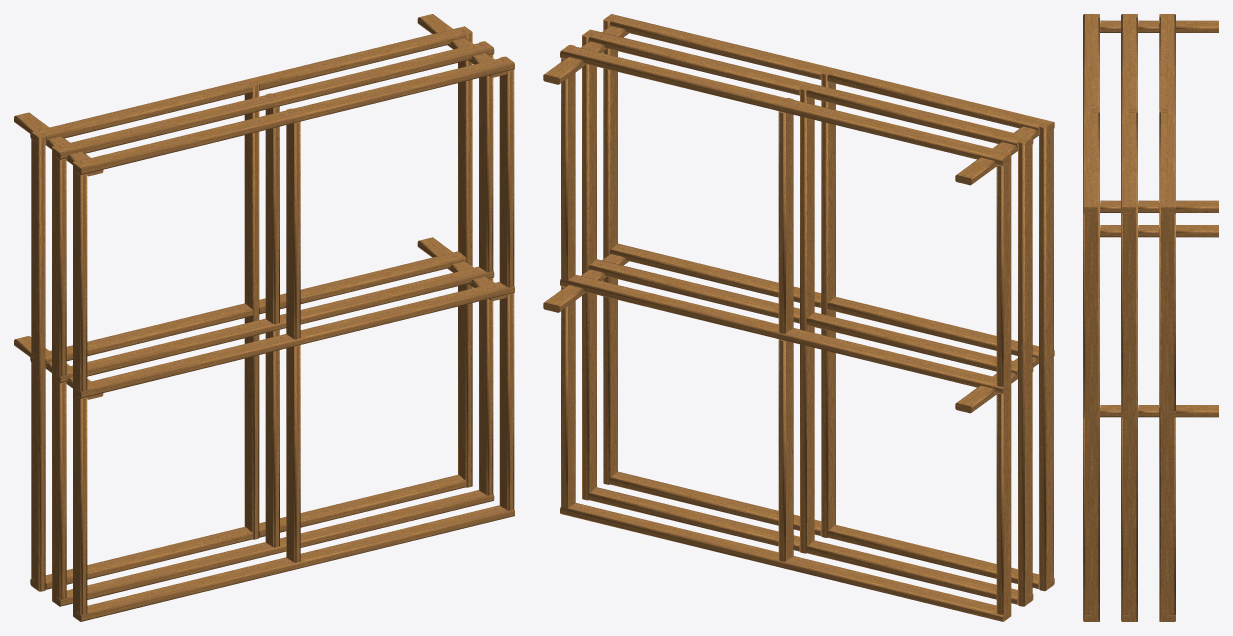
File: VCKA0050.glb
3 renders of one model, left to right at view 1: azimuth 30°, elevation 25°; view 2: azimuth 150°, elevation 25°; view 3: azimuth 270°, elevation 25°, orthographic. The views are drawn at different scales.
Parts seen in each view (by area): view 1: V Bar BIN 32 32.017; view 2: V Bar BIN 32 32.017; view 3: V Bar BIN 32 32.017.
Part boxes in pixels (x1,y1,x2,y2): V Bar BIN 32 32.017: (14, 14, 514, 621); V Bar BIN 32 32.017: (543, 14, 1054, 621); V Bar BIN 32 32.017: (1083, 14, 1218, 621).
Bounding box in the file's own units: 0.812 × 0.812 × 0.241.
Materials: 2 (2 with a texture image).
